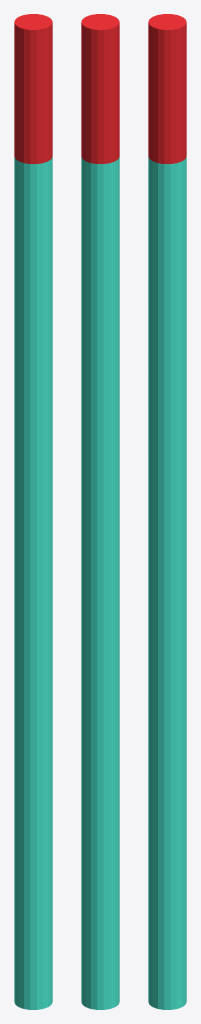
Rendered from stick.fbx.
3 renders of one model, left to right at view 1: azimuth 90°, elevation 25°; view 2: azimuth 210°, elevation 25°; view 3: azimuth 270°, elevation 25°, orthographic.
Parts seen in each view (by area): view 1: Cylinder, Cylinder.001; view 2: Cylinder, Cylinder.001; view 3: Cylinder, Cylinder.001.
Boxes of the visible parts, <box> form: Cylinder: <box>14,157,52,1009</box>; Cylinder.001: <box>14,14,52,163</box>; Cylinder: <box>81,157,119,1009</box>; Cylinder.001: <box>81,14,119,163</box>; Cylinder: <box>148,157,186,1009</box>; Cylinder.001: <box>148,14,186,163</box>.
Bounding box in the file's own units: 29.72 × 851 × 30.18.
